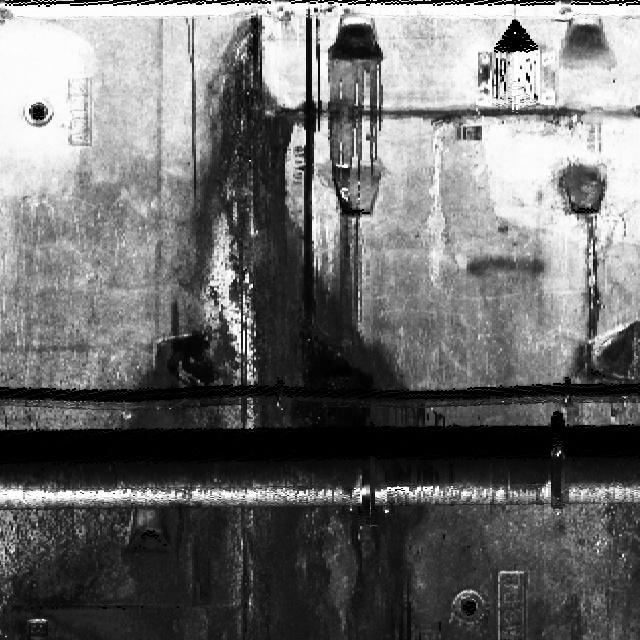leakage: (118, 9, 445, 430), (7, 506, 445, 639), (564, 205, 639, 390)
